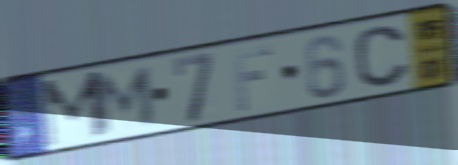6: (303, 32, 346, 101)
7: (170, 48, 217, 126)
C: (351, 23, 413, 91)
F: (230, 43, 275, 114)
M: (39, 68, 107, 151), (97, 63, 157, 137)
